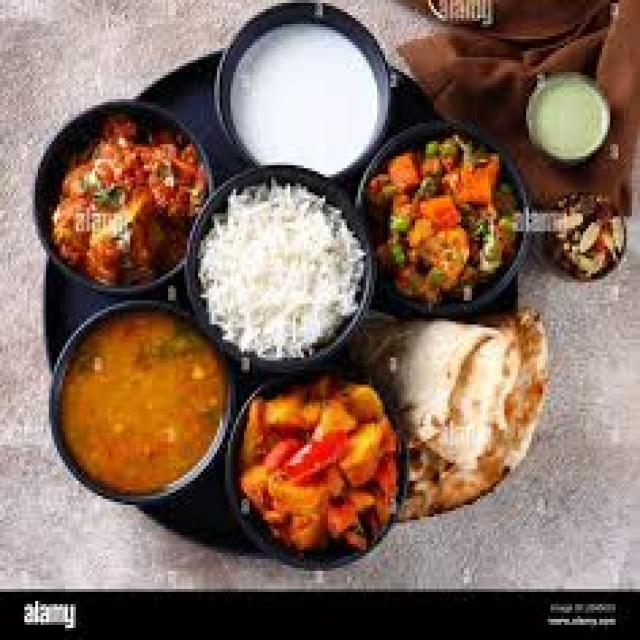curd: (215, 10, 396, 187)
dal: (55, 300, 234, 509)
papad: (392, 308, 554, 494)
raita: (516, 57, 620, 174)
rice: (196, 185, 368, 369)
roti: (397, 314, 547, 489)
veg-fry: (50, 109, 207, 300)
